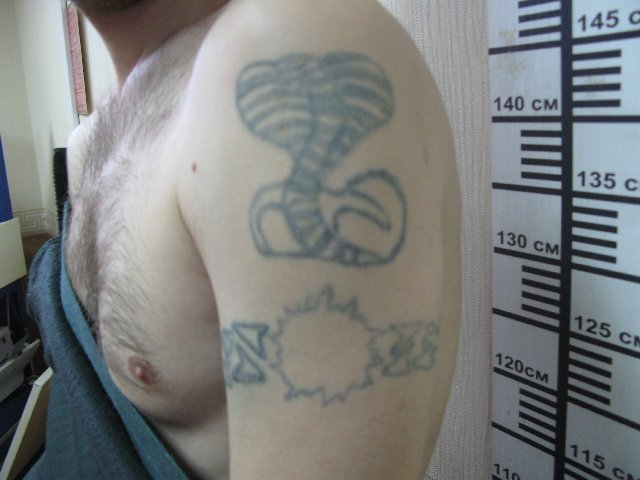tatu7_zmeya: (209, 4, 427, 307)
